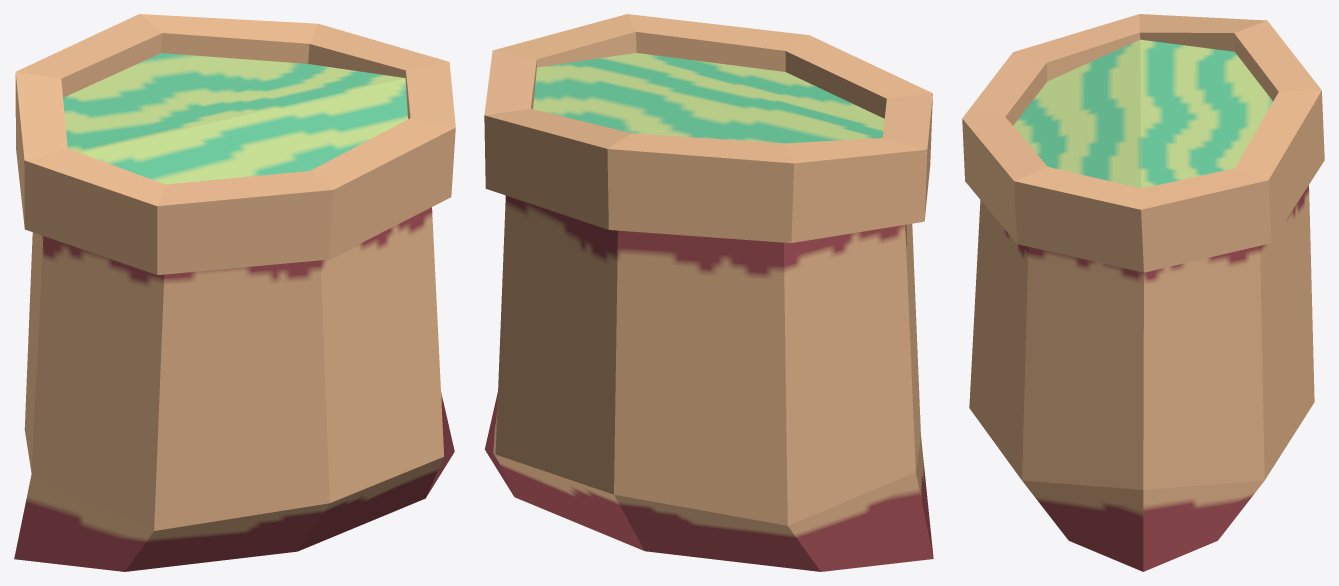
File: Sacks.fbx
3 views of the same model, side by side, from view 1: azimuth 30°, elevation 25°; view 2: azimuth 150°, elevation 25°; view 3: azimuth 270°, elevation 25° (orthographic). The views are drawn at different scales.
Visible parts, largest first — view 1: Sacks; view 2: Sacks; view 3: Sacks.
Boxes of the visible parts, bbox=[...] form: Sacks: bbox=[14, 14, 455, 571]; Sacks: bbox=[484, 14, 933, 571]; Sacks: bbox=[962, 14, 1324, 571].
Bounding box in the file's own units: 0.4556 × 0.4159 × 0.3545.
1 material, 1 textured.
